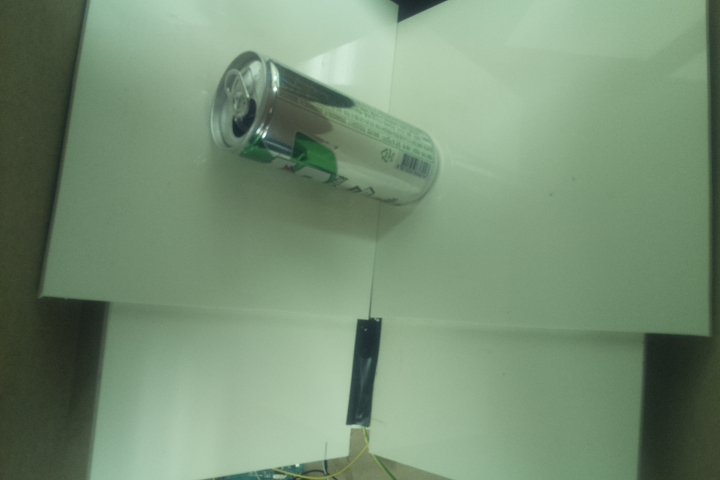can: (208, 51, 441, 205)
